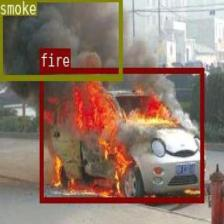fire: (39, 68, 203, 202)
smoke: (0, 0, 122, 79)
